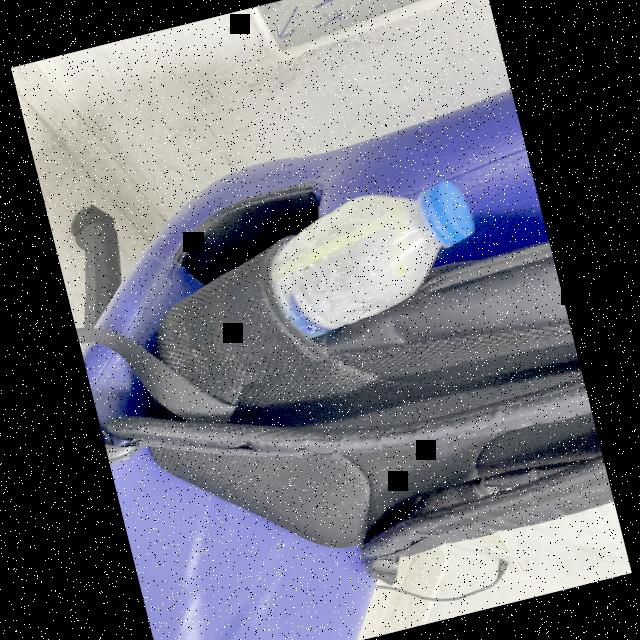plastic_bottle: (243, 168, 497, 348)
plastic_bottle_cap: (416, 175, 480, 252)
straw: (264, 208, 426, 302)
